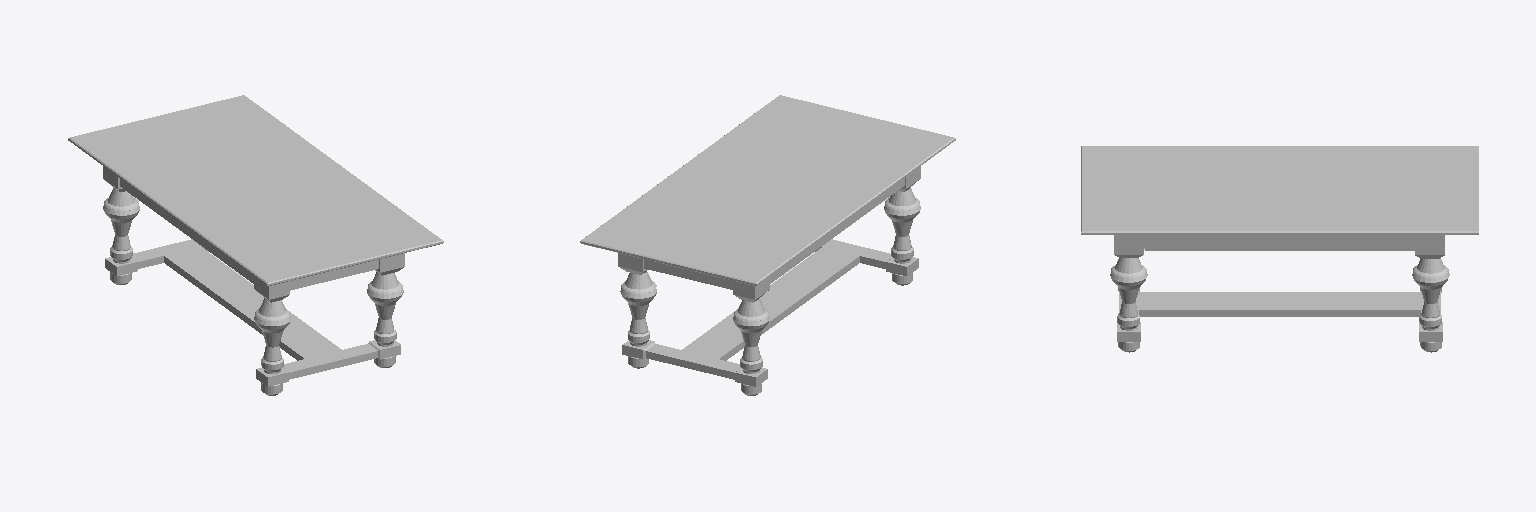
File: tableBetti.obj
The picture shows the model from 3 angles: view 1: azimuth 30°, elevation 25°; view 2: azimuth 150°, elevation 25°; view 3: azimuth 270°, elevation 25°; orthographic projection.
Parts seen in each view (by area): view 1: pCube5; view 2: pCube5; view 3: pCube5.
Part boxes in pixels (x1,y1,x2,y2): pCube5: (68,95,443,395); pCube5: (580,95,955,395); pCube5: (1081,146,1478,352).
Bounding box in the file's own units: 0.7799 × 0.567 × 1.53.